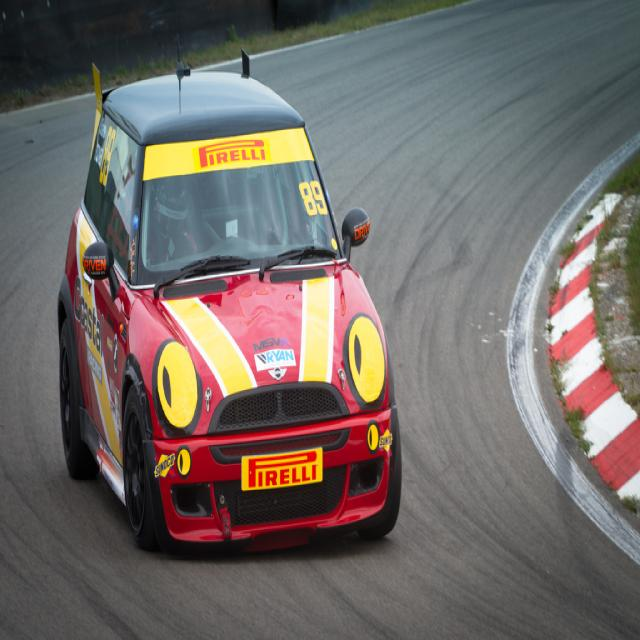car: (55, 63, 405, 548)
